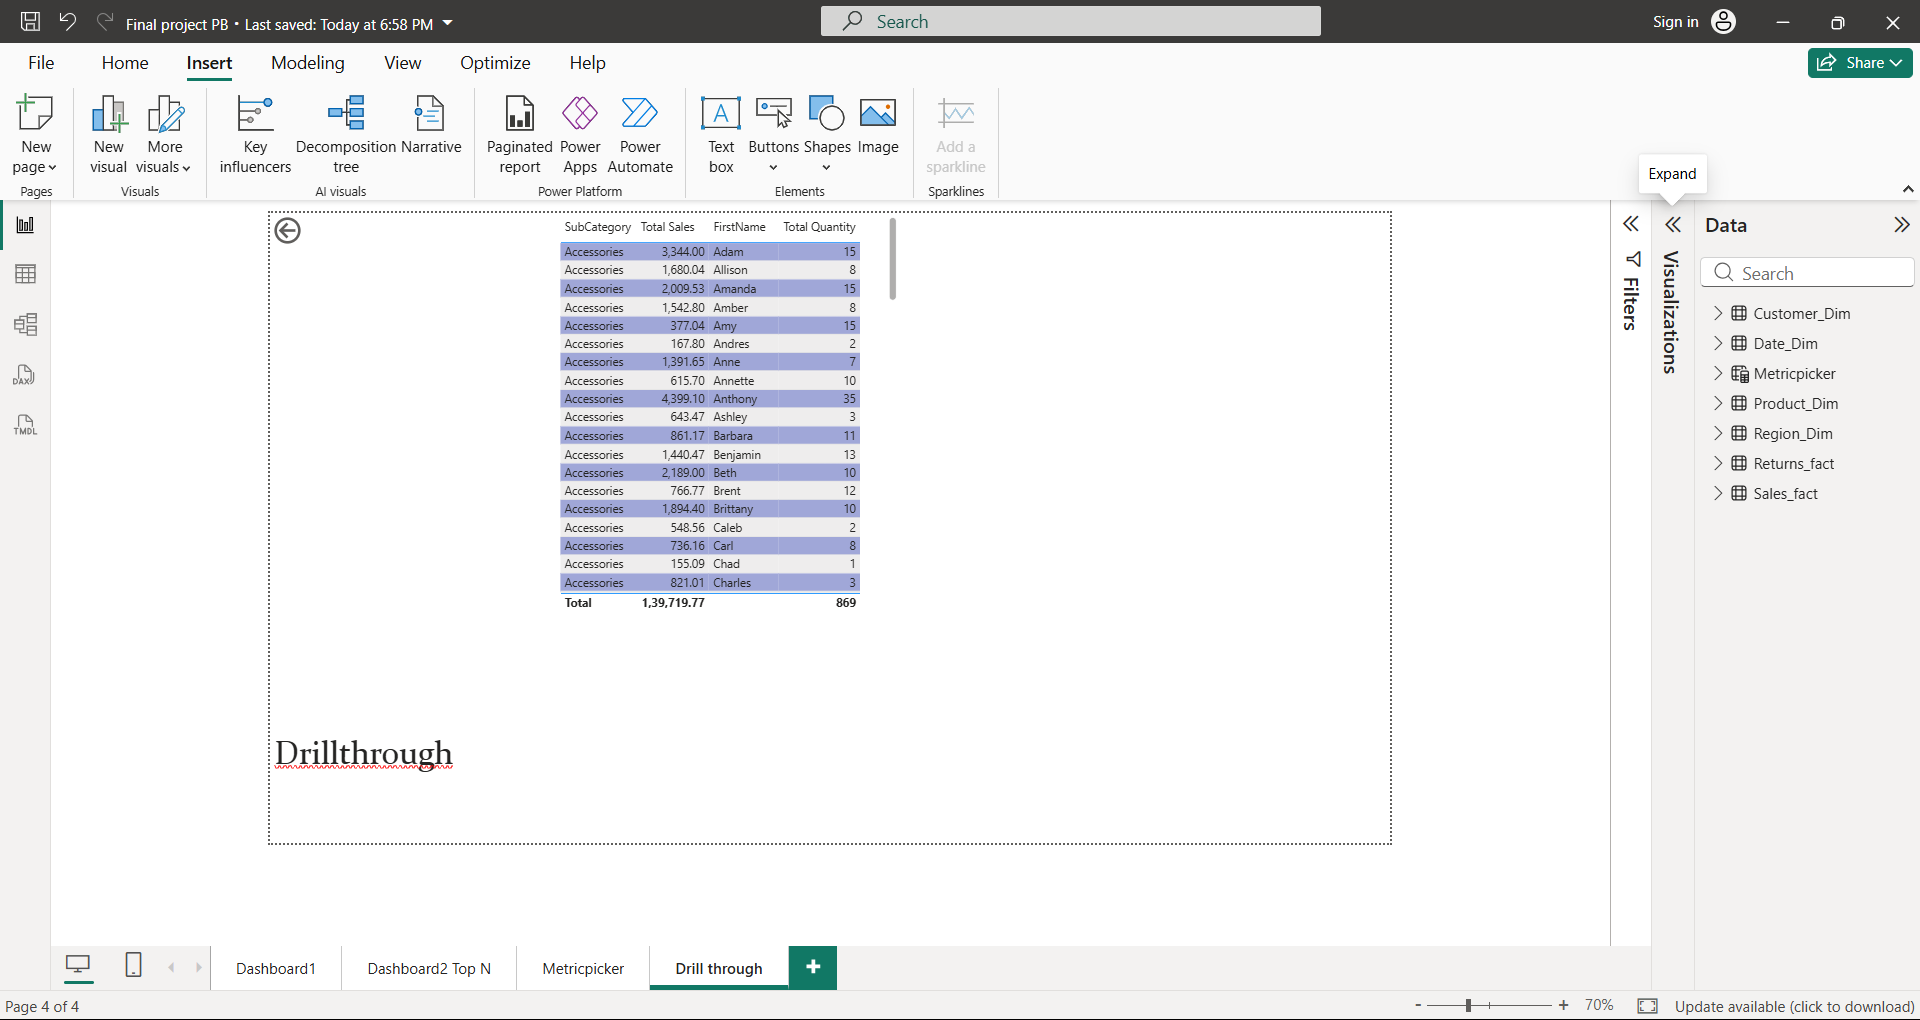

What the dashboard file says about the page in this screenshot:
{"tool":"powerbi","page":{"name":"Drill through","canvas":[1280,720],"ordinal":3},"visuals":[{"type":"tableEx","fields":{"Values":["Product_Dim.SubCategory","Customer_Dim.Total Sales","Customer_Dim.FirstName","Customer_Dim.Total Quantity"]},"box":[0,0,395.7,460],"z":0},{"type":"actionButton","box":[0,0,100,40],"z":1000}]}

Visuals, with their boxes on the page's 1280x720 design canvas (x1, y1, x2, y2). These are canvas units, not pixel positions in the 1920x1020 screenshot, which may show the page scaled, cropped or inside an application window:
tableEx - Product_Dim.SubCategory x Customer_Dim.Total Sales: locate(0, 0, 396, 460)
actionButton: locate(0, 0, 100, 40)
